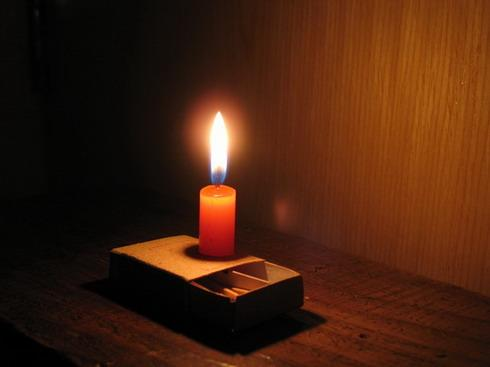Fire: (203, 111, 233, 188)
